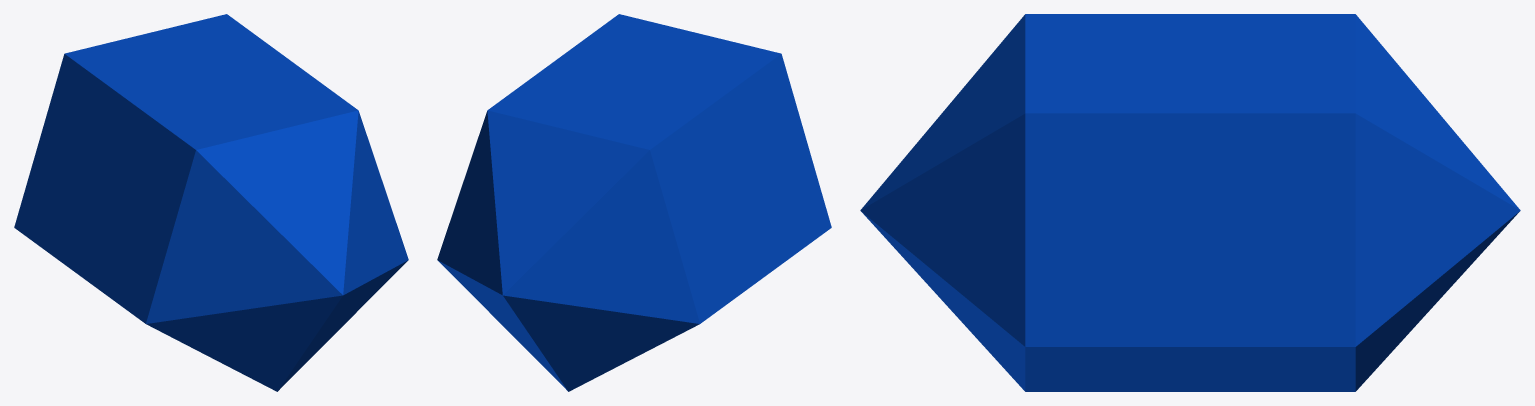
File: PlayerDemoBullet.obj
The picture shows the model from 3 angles, left to right: view 1: azimuth 30°, elevation 25°; view 2: azimuth 150°, elevation 25°; view 3: azimuth 270°, elevation 25°; orthographic projection. The views are drawn at different scales.
Visible parts, largest first — view 1: 球; view 2: 球; view 3: 球.
Part boxes in pixels (<box>): 球: <box>14,14,408,391</box>; 球: <box>437,14,831,391</box>; 球: <box>860,14,1520,391</box>.
Size of the model in its own units: 1.15 by 1.1 by 2.
1 material, 1 textured.
